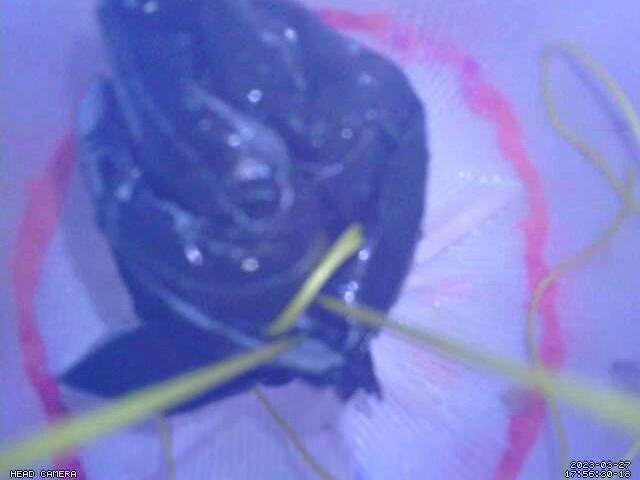head: (10, 6, 565, 480)
